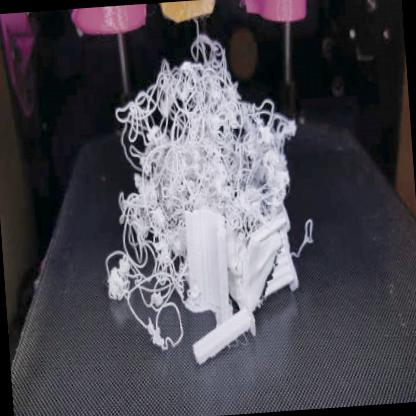fail: (113, 29, 292, 212), (103, 206, 190, 357)
